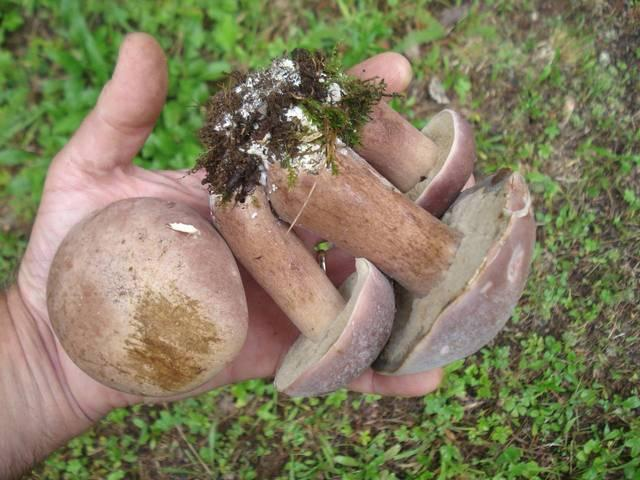poisonous_mushroom: (193, 46, 537, 396), (44, 195, 249, 399)
